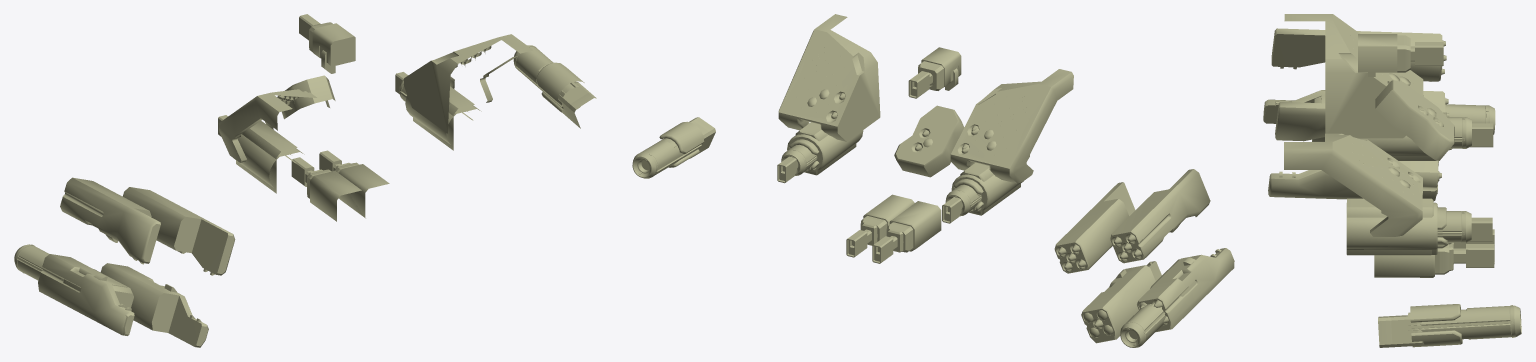
File: AwesomeWeapons.glb
3 views of the same model, side by side, from view 1: azimuth 30°, elevation 25°; view 2: azimuth 150°, elevation 25°; view 3: azimuth 270°, elevation 25° (orthographic). The views are drawn at different scales.
Visible parts, largest first — view 1: Forearm_Left_MH1_Missile20, Torso_Right_MH2_Missile10, Forearm_Left_MH1_Missile10, Forearm_Left_MH1_Missile15, Forearm_Right_EH1_PPC, Head_EH1_Flamer, Torso_Left_MH2_Missile2, Torso_Center_EH1_Flamer, Torso_Center_EH2_Flamer, Torso_Left_EH1_Flamer, Forearm_Left_EH1_PPC, Forearm_Left_MH1_Missile5 (+9 smaller); view 2: Forearm_Left_MH1_Missile20, Torso_Left_MH2_Missile2, Torso_Right_MH2_Missile10, Forearm_Left_MH1_Missile10, Forearm_Left_MH1_Missile15, Forearm_Right_EH1_PPC, Torso_Right_MH2_Missile2, Torso_Center_MH1_Missile2, Torso_Right_EH1_PPC, Torso_Center_EH2_Flamer, Torso_Right_MH2_Missile20, Torso_Left_MH2_Missile4 (+19 smaller); view 3: Torso_Right_MH2_Missile20, Torso_Left_MH2_Missile10, Forearm_Right_EH1_PPC, Forearm_Left_MH1_Missile15, Forearm_Left_MH1_Missile20, Torso_Right_EH1_PPC, Torso_Center_EH1_Flamer, Torso_Right_MH2_Missile10, Head_EH1_Flamer, Torso_Center_MH1_Missile4, Torso_Right_EH1_Flamer, Torso_Left_EH1_PPC (+17 smaller).
Part boxes in pixels (x1,y1,x2,y2): Forearm_Left_MH1_Missile20: [42, 178, 234, 347]; Torso_Right_MH2_Missile10: [403, 34, 533, 133]; Forearm_Left_MH1_Missile10: [57, 263, 206, 346]; Forearm_Left_MH1_Missile15: [38, 177, 234, 334]; Forearm_Right_EH1_PPC: [513, 45, 584, 112]; Head_EH1_Flamer: [299, 14, 355, 73]; Torso_Left_MH2_Missile2: [218, 91, 316, 162]; Torso_Center_EH1_Flamer: [319, 150, 389, 218]; Torso_Center_EH2_Flamer: [291, 157, 360, 221]; Torso_Left_EH1_Flamer: [218, 115, 297, 193]; Forearm_Left_EH1_PPC: [14, 244, 134, 335]; Forearm_Left_MH1_Missile5: [44, 269, 126, 325]; Forearm_Left_MH1_Missile20: [1055, 169, 1210, 343]; Torso_Left_MH2_Missile2: [952, 71, 1073, 183]; Torso_Right_MH2_Missile10: [778, 14, 880, 141]; Forearm_Left_MH1_Missile10: [1081, 258, 1233, 342]; Forearm_Left_MH1_Missile15: [1054, 201, 1234, 332]; Forearm_Right_EH1_PPC: [632, 121, 704, 178]; Torso_Right_MH2_Missile2: [779, 34, 859, 122]; Torso_Center_MH1_Missile2: [895, 106, 957, 177]; Torso_Right_EH1_PPC: [781, 130, 863, 175]; Torso_Center_EH2_Flamer: [872, 201, 941, 263]; Torso_Right_MH2_Missile20: [778, 14, 867, 141]; Torso_Left_MH2_Missile4: [950, 69, 1071, 179]; Torso_Right_MH2_Missile20: [1284, 133, 1422, 236]; Torso_Left_MH2_Missile10: [1284, 14, 1405, 138]; Forearm_Right_EH1_PPC: [1408, 304, 1521, 347]; Forearm_Left_MH1_Missile15: [1269, 32, 1449, 141]; Forearm_Left_MH1_Missile20: [1265, 28, 1445, 201]; Torso_Right_EH1_PPC: [1346, 202, 1471, 254]; Torso_Center_EH1_Flamer: [1374, 242, 1494, 277]; Torso_Right_MH2_Missile10: [1284, 133, 1422, 236]; Head_EH1_Flamer: [1358, 34, 1443, 76]; Torso_Center_MH1_Missile4: [1375, 83, 1454, 160]; Torso_Right_EH1_Flamer: [1347, 198, 1492, 254]; Torso_Left_EH1_PPC: [1358, 112, 1471, 160].
Size of the model in its own units: 2.47 by 1.05 by 0.9303.
